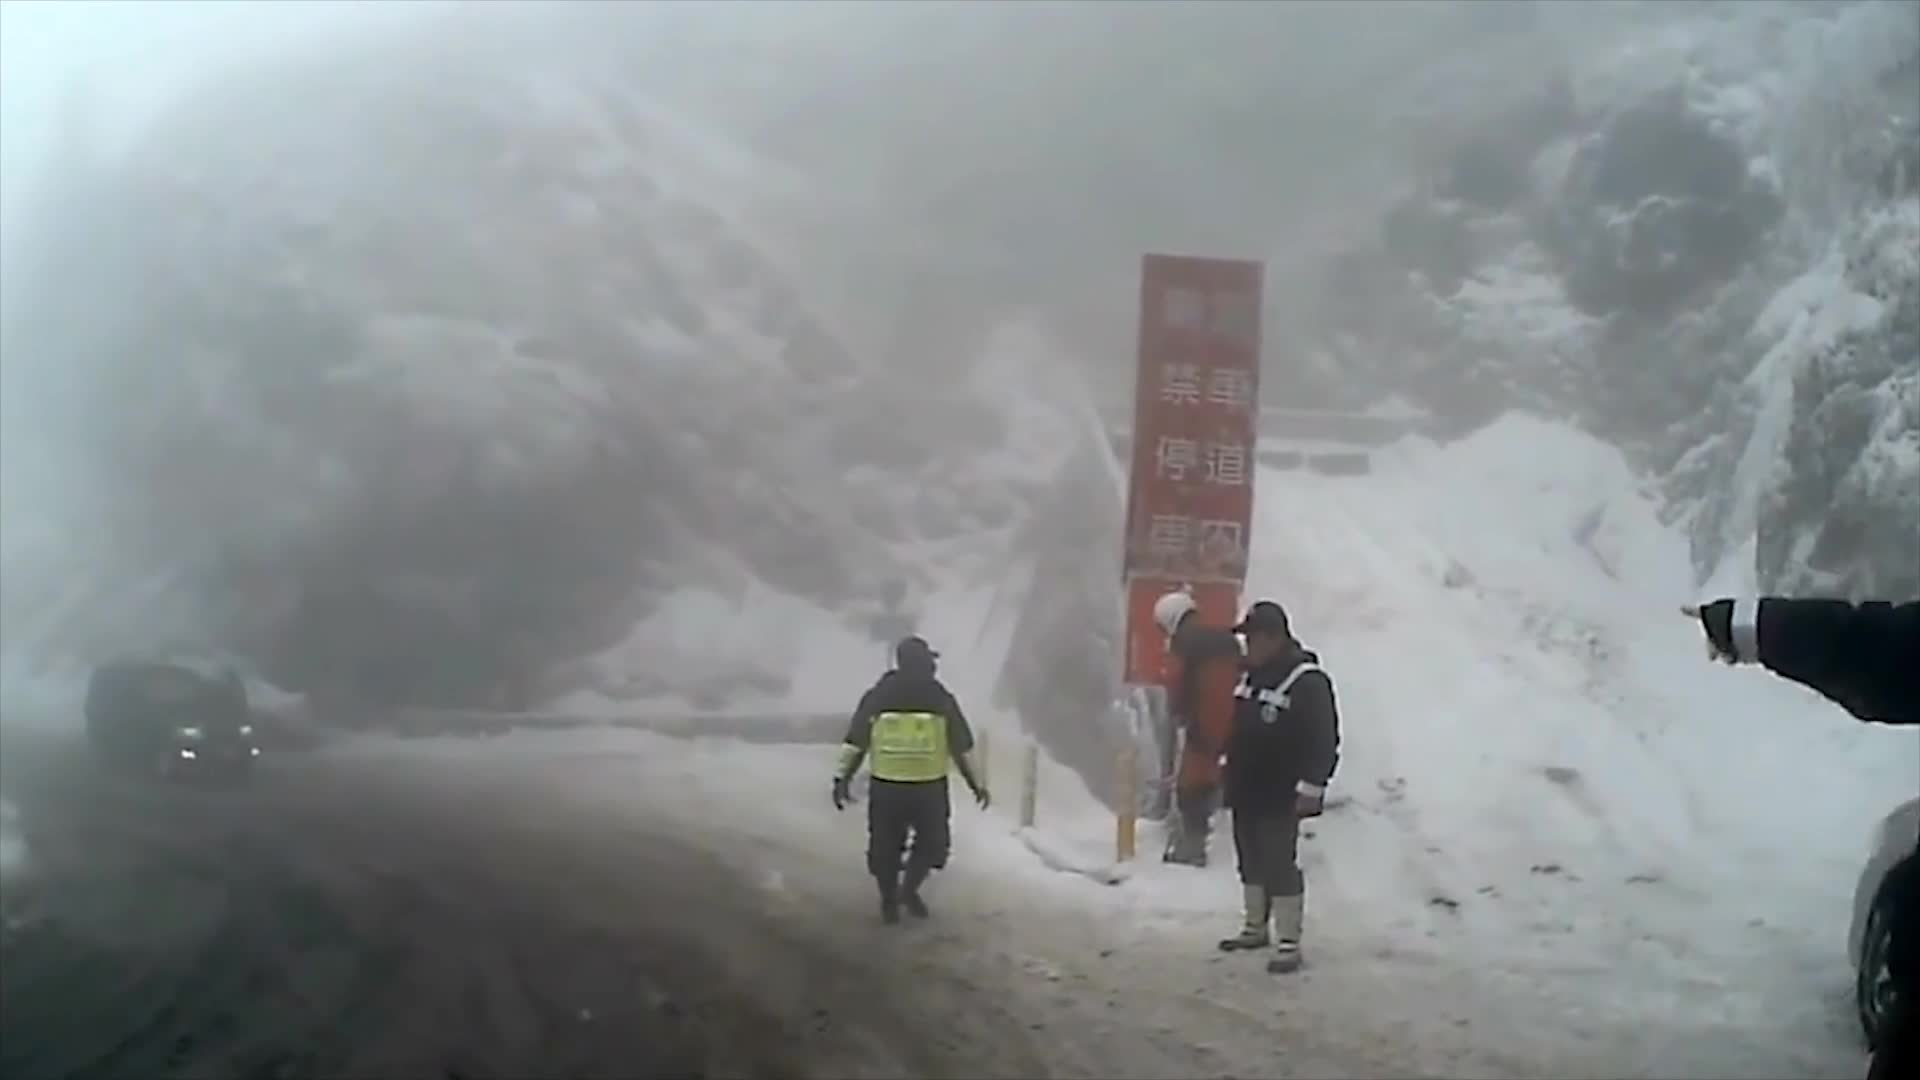pedestrian: (835, 626, 992, 923), (1221, 594, 1340, 980), (1148, 591, 1256, 840)
vehicle: (81, 653, 258, 783)
